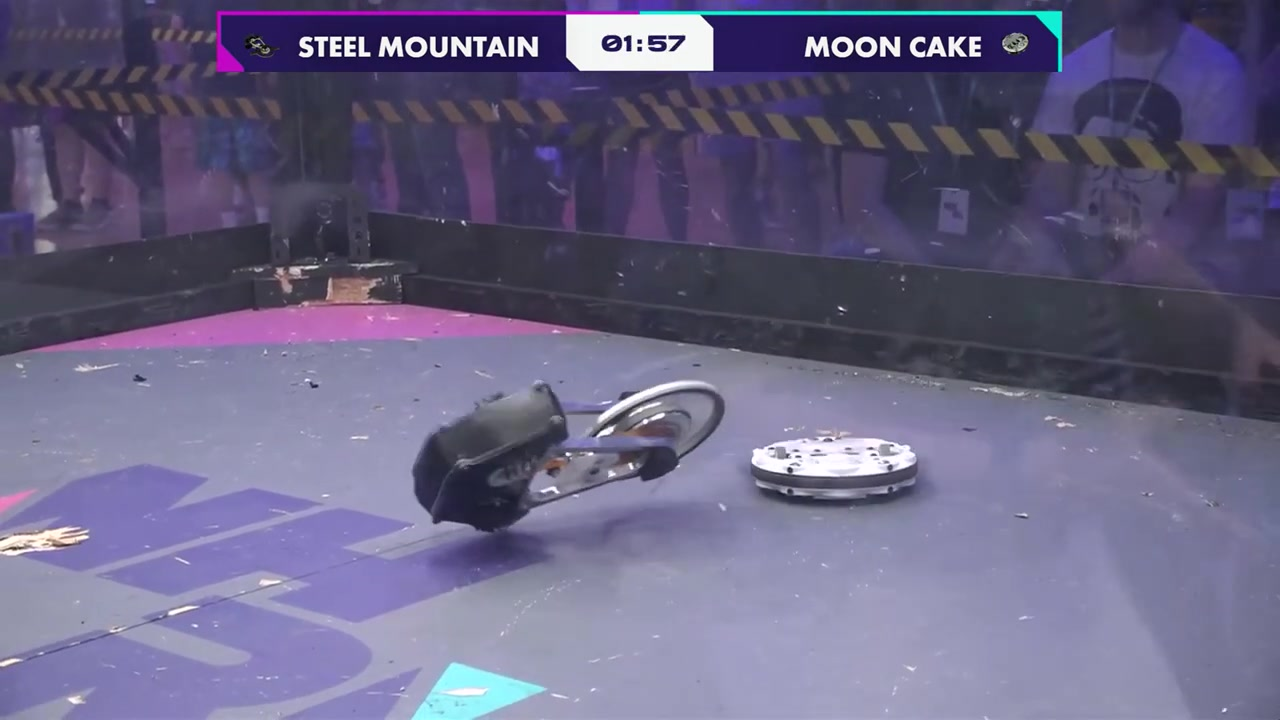combatbot: (412, 377, 725, 535), (748, 437, 919, 504)
